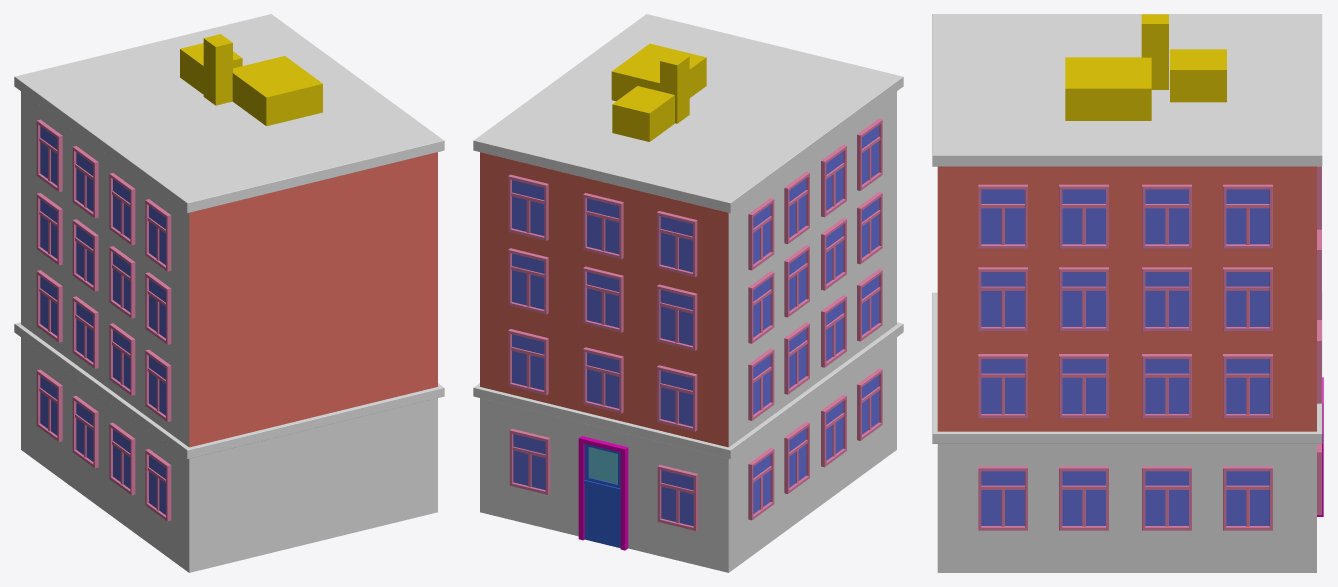
File: house04.fbx
The picture shows the model from 3 angles, left to right: view 1: azimuth 30°, elevation 25°; view 2: azimuth 150°, elevation 25°; view 3: azimuth 270°, elevation 25°; orthographic projection. The views are drawn at different scales.
Visible parts, largest first — view 1: Cube.067; view 2: Cube.067; view 3: Cube.067.
Part boxes in pixels (bbox=[...]): Cube.067: bbox=[14, 14, 444, 572]; Cube.067: bbox=[473, 14, 903, 572]; Cube.067: bbox=[932, 14, 1323, 572].
Bounding box in the file's own units: 743 × 1191 × 869.
